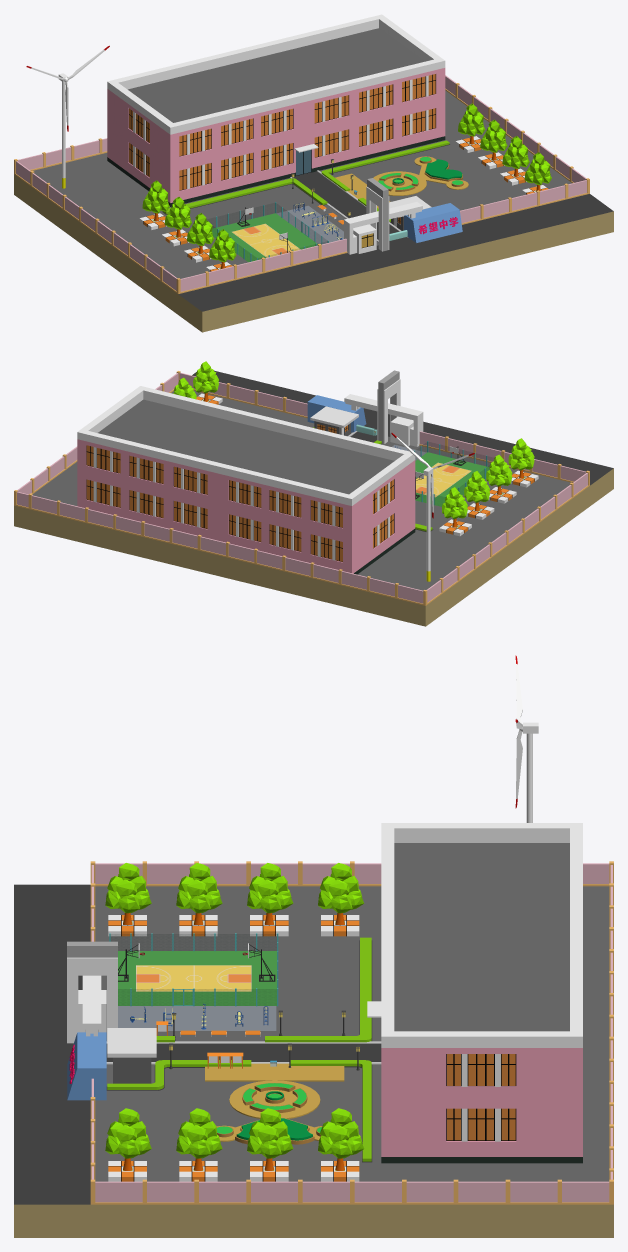
Rendered from school.gltf.
The picture shows the model from 3 angles, top to bottom: view 1: azimuth 30°, elevation 25°; view 2: azimuth 150°, elevation 25°; view 3: azimuth 270°, elevation 25°; orthographic projection. The views are drawn at different scales.
Visible parts, largest first — view 1: Lo-校园楼_01, Lo-校园路_01, Lo-校园底座_01, Lo-校园围墙_01, Lo-校园楼玻璃_01, Lo-校园门卫_01, Lo-校园绿篱A_01, Lo-校园树座_01, Lo-校园绿篱_01, Lo-校园风车_01, Lo-校园围栏A_01, Lo-校园树_03 (+7 smaller); view 2: Lo-校园楼_01, Lo-校园路_01, Lo-校园围墙_01, Lo-校园底座_01, Lo-校园楼玻璃_01, Lo-校园门卫_01, Lo-校园树座_01, Lo-校园风车_01, Lo-校园树_01, Lo-校园树_03, Lo-校园树_02, Lo-校园树_05 (+2 smaller); view 3: Lo-校园路_01, Lo-校园楼_01, Lo-校园围墙_01, Lo-校园底座_01, Lo-校园门卫_01, Lo-校园绿篱A_01, Lo-校园树座_01, Lo-校园绿篱_01, Lo-校园楼玻璃_01, Lo-校园围栏A_01, Lo-校园树_08, Lo-校园树_06 (+8 smaller).
Part boxes in pixels (<box>): Lo-校园楼_01: <box>107,14,445,206</box>; Lo-校园路_01: <box>33,90,613,311</box>; Lo-校园底座_01: <box>14,174,613,332</box>; Lo-校园围墙_01: <box>14,75,589,293</box>; Lo-校园楼玻璃_01: <box>128,74,435,190</box>; Lo-校园门卫_01: <box>344,178,462,254</box>; Lo-校园绿篱A_01: <box>335,156,468,208</box>; Lo-校园树座_01: <box>139,136,548,271</box>; Lo-校园绿篱_01: <box>162,140,449,222</box>; Lo-校园风车_01: <box>26,45,109,188</box>; Lo-校园围栏A_01: <box>208,203,327,261</box>; Lo-校园树_03: <box>164,197,191,237</box>; Lo-校园楼_01: <box>77,386,415,574</box>; Lo-校园路_01: <box>32,370,613,590</box>; Lo-校园围墙_01: <box>14,371,589,605</box>; Lo-校园底座_01: <box>14,468,613,626</box>; Lo-校园楼玻璃_01: <box>86,445,394,561</box>; Lo-校园门卫_01: <box>307,370,423,446</box>; Lo-校园树座_01: <box>196,393,538,536</box>; Lo-校园风车_01: <box>391,433,474,581</box>; Lo-校园树_01: <box>508,438,534,478</box>; Lo-校园树_03: <box>464,471,489,511</box>; Lo-校园树_02: <box>486,454,512,494</box>; Lo-校园树_05: <box>193,361,218,401</box>; Lo-校园路_01: <box>14,884,609,1204</box>; Lo-校园楼_01: <box>367,823,582,1163</box>; Lo-校园围墙_01: <box>90,861,613,1204</box>; Lo-校园底座_01: <box>14,1204,613,1237</box>; Lo-校园门卫_01: <box>67,941,156,1100</box>; Lo-校园绿篱A_01: <box>205,1063,344,1144</box>; Lo-校园树座_01: <box>108,915,359,1181</box>; Lo-校园绿篱_01: <box>106,937,372,1162</box>; Lo-校园楼玻璃_01: <box>446,1054,516,1140</box>; Lo-校园围栏A_01: <box>111,934,276,1005</box>; Lo-校园树_08: <box>318,1108,364,1170</box>; Lo-校园树_06: <box>176,1108,222,1170</box>.
Bounding box in the file's own units: 124 × 42.82 × 93.69.
23 materials, 21 textured.
